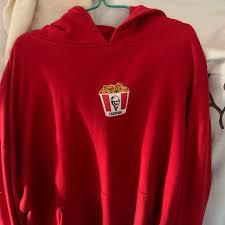sweater: (1, 9, 213, 224)
